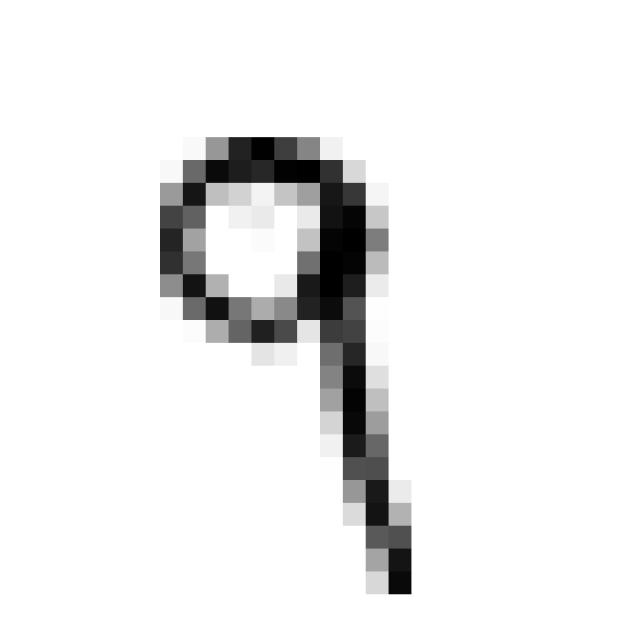9 -nine-: (137, 117, 435, 612)
